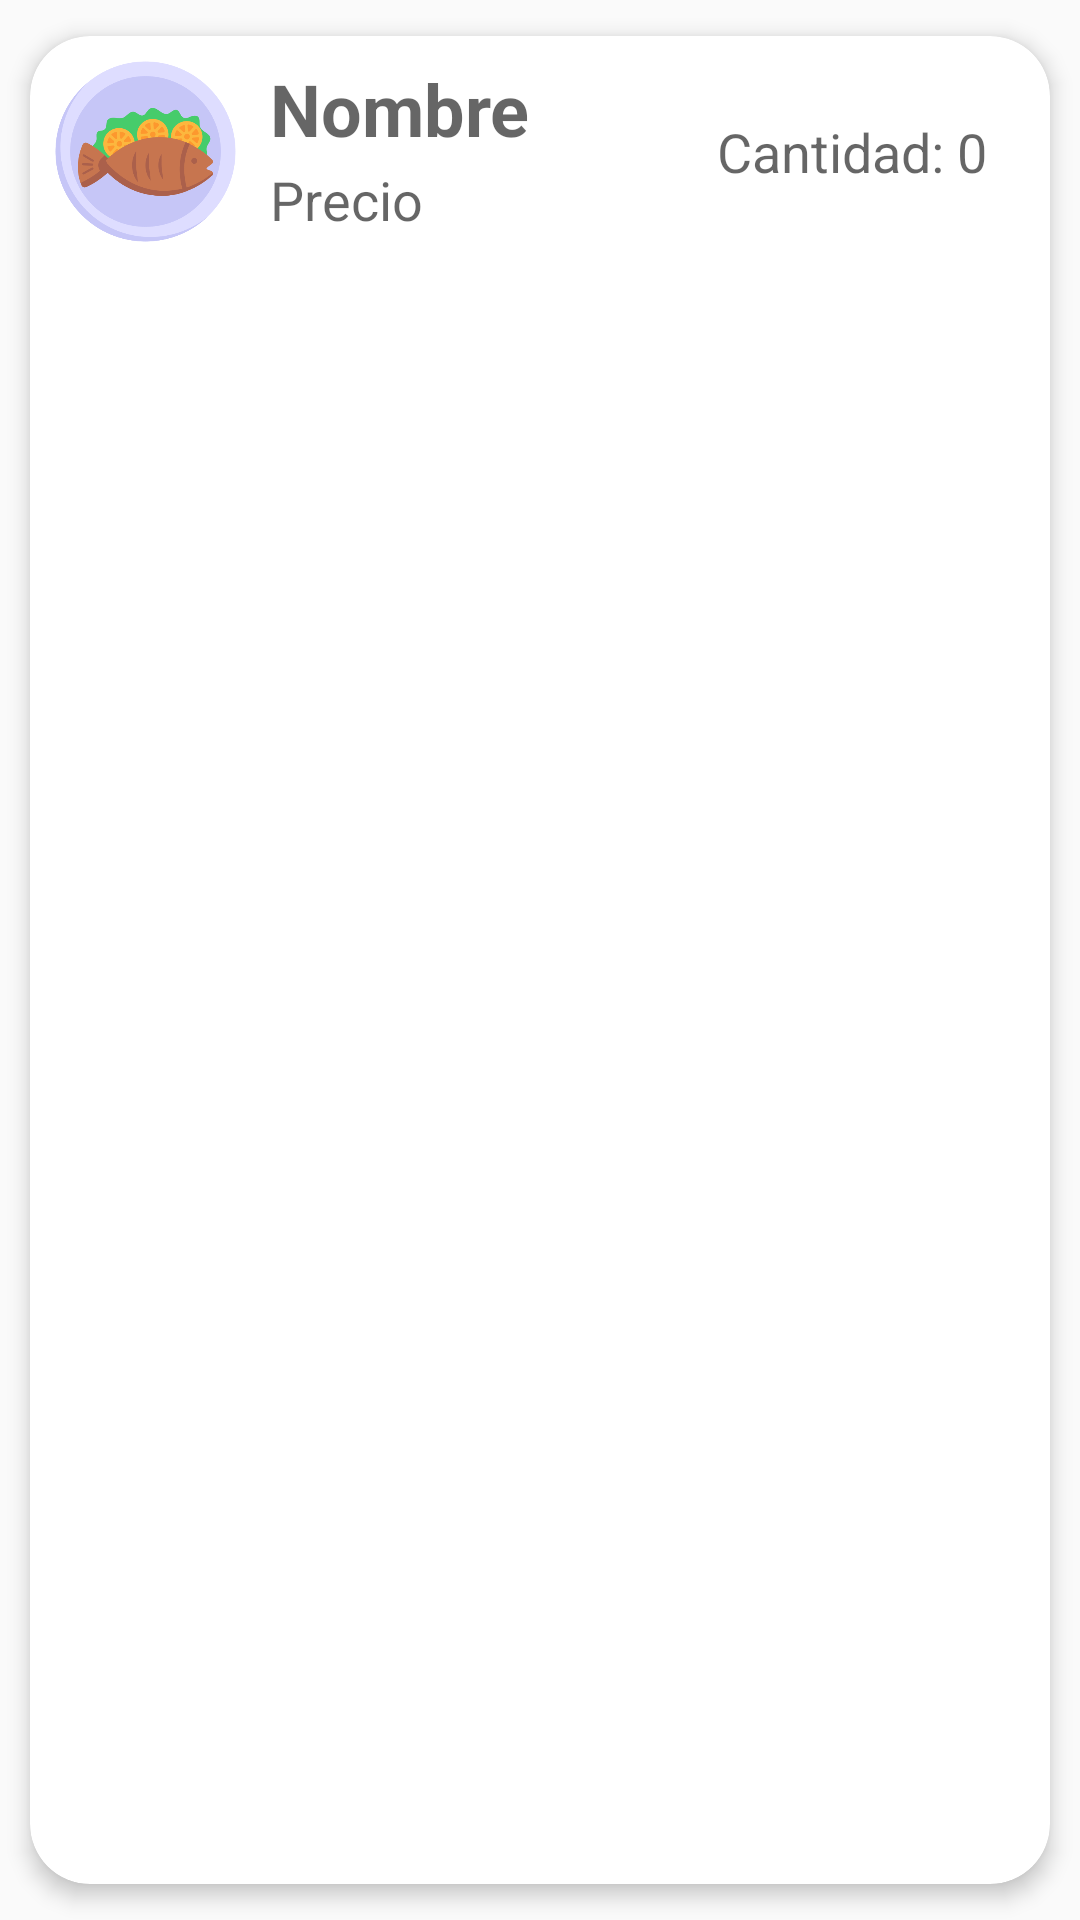

Icon click points for this 1080px x 1920px phone screenshot, format [x,y]:
platos: [145,152]
